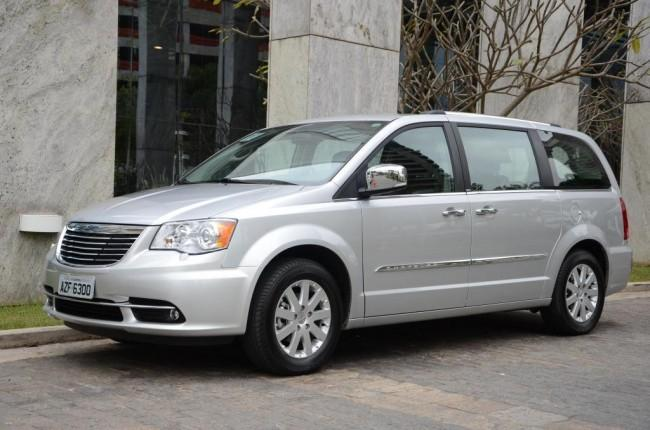car: (28, 106, 650, 370)
